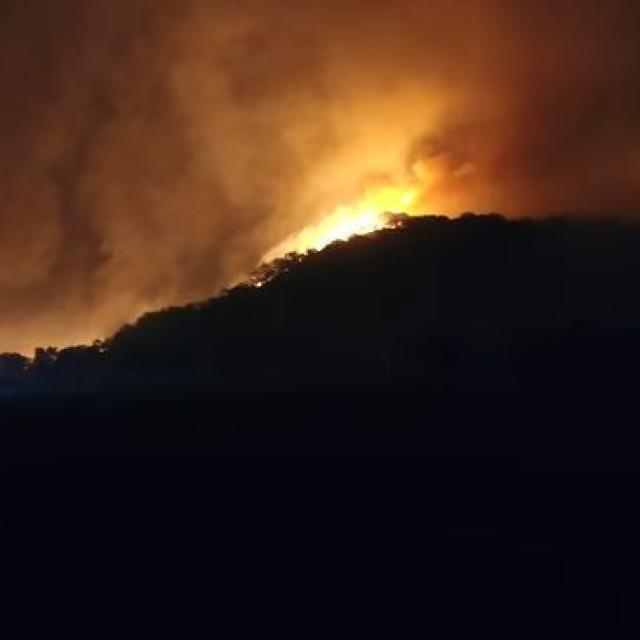Fire: (274, 216, 359, 270), (341, 179, 417, 239)
Smoke: (0, 45, 247, 309), (0, 0, 290, 212), (298, 11, 640, 140)
